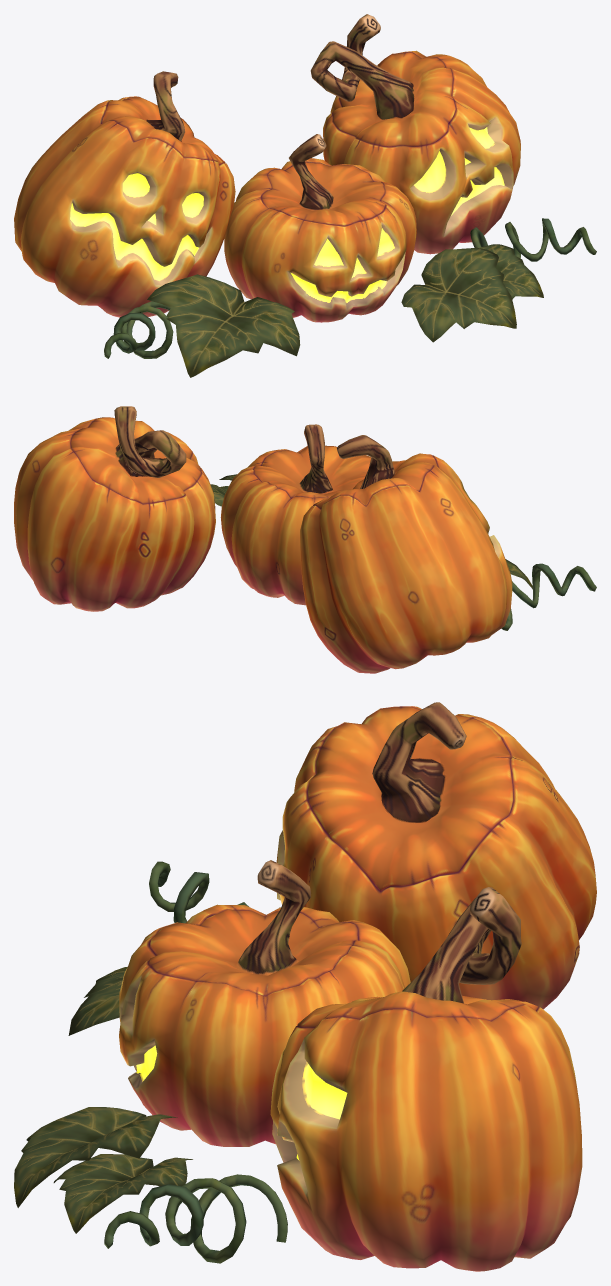
File: carved_pumpkin_trio.glb
The picture shows the model from 3 angles, top to bottom: view 1: azimuth 30°, elevation 25°; view 2: azimuth 150°, elevation 25°; view 3: azimuth 270°, elevation 25°; orthographic projection. The views are drawn at different scales.
Parts seen in each view (by area): view 1: RetopoFlow.002, RetopoFlow.001, RetopoFlow, RetopoFlow.006, RetopoFlow.003, Spiral.002, Spiral.001, RetopoFlow.005; view 2: RetopoFlow.002, RetopoFlow.001, RetopoFlow, Spiral.002; view 3: RetopoFlow.001, RetopoFlow.002, RetopoFlow, RetopoFlow.003, Spiral.001, RetopoFlow.005, RetopoFlow.006, Spiral.002.
Part boxes in pixels (bbox=[...]): RetopoFlow.002: bbox=[14, 71, 235, 317]; RetopoFlow.001: bbox=[310, 14, 520, 254]; RetopoFlow: bbox=[224, 134, 416, 322]; RetopoFlow.006: bbox=[147, 274, 300, 377]; RetopoFlow.003: bbox=[401, 247, 516, 342]; Spiral.002: bbox=[104, 301, 173, 358]; Spiral.001: bbox=[470, 218, 596, 261]; RetopoFlow.005: bbox=[478, 244, 543, 299]; RetopoFlow.002: bbox=[300, 435, 512, 673]; RetopoFlow.001: bbox=[14, 406, 215, 611]; RetopoFlow: bbox=[220, 424, 371, 605]; Spiral.002: bbox=[501, 563, 596, 630]; RetopoFlow.001: bbox=[270, 887, 582, 1271]; RetopoFlow.002: bbox=[276, 702, 596, 1009]; RetopoFlow: bbox=[119, 860, 410, 1146]; RetopoFlow.003: bbox=[14, 1107, 177, 1207]; Spiral.001: bbox=[104, 1174, 287, 1263]; RetopoFlow.005: bbox=[53, 1154, 192, 1233]; RetopoFlow.006: bbox=[68, 967, 127, 1035]; Spiral.002: bbox=[149, 861, 248, 923].
Size of the model in its own units: 4.21 by 1.85 by 2.78.
2 materials, 2 textured.
